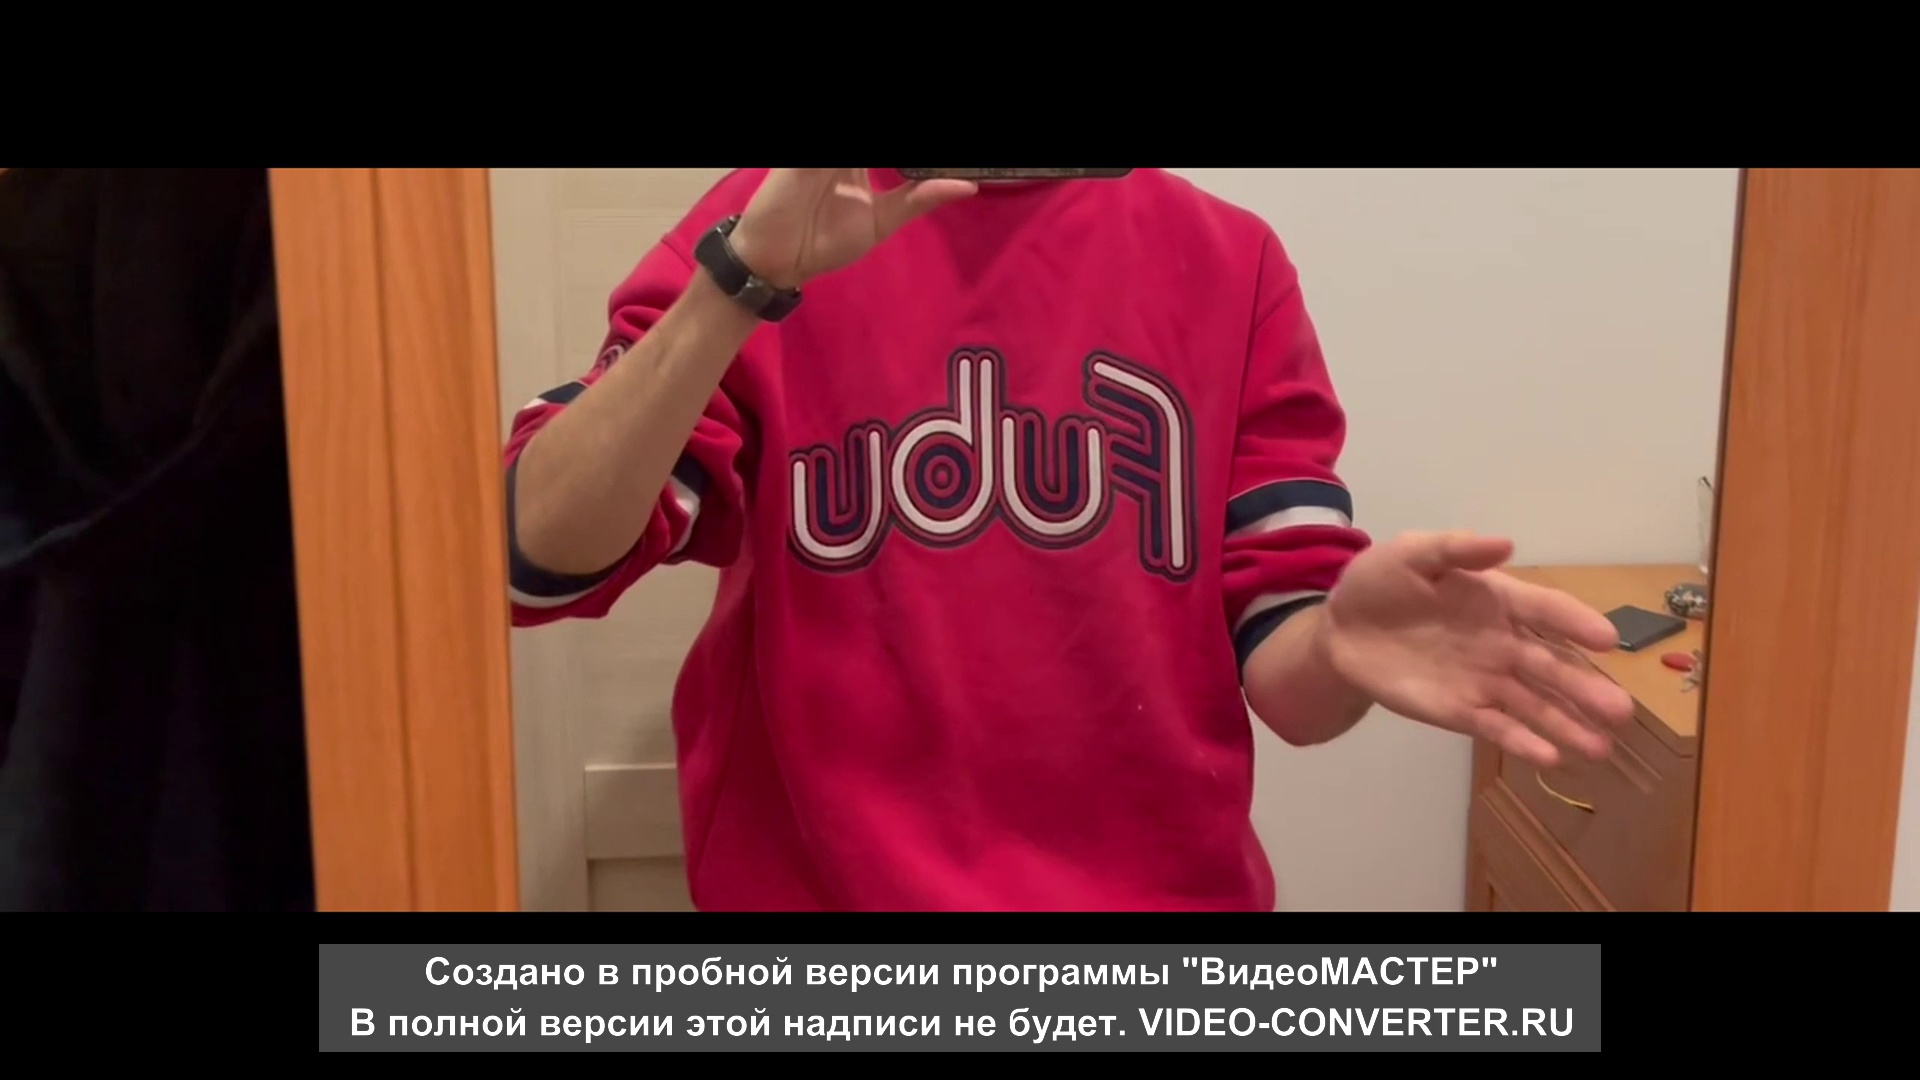Ладонь: (1329, 534, 1638, 766)
